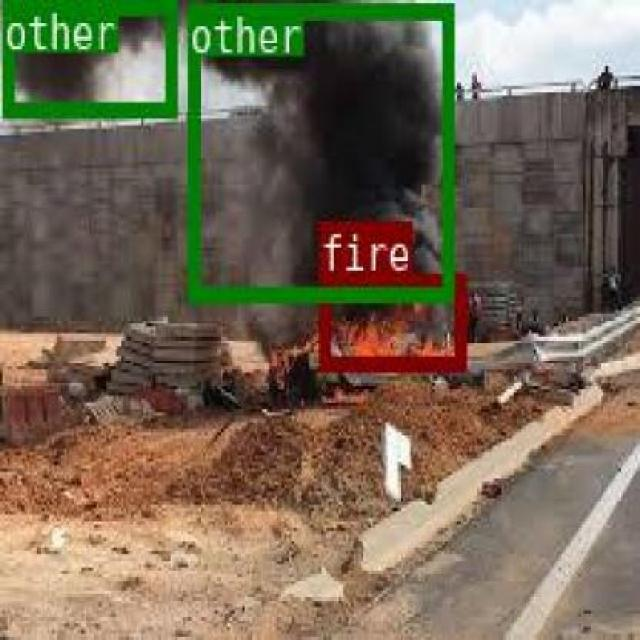Fire: (318, 271, 462, 367)
